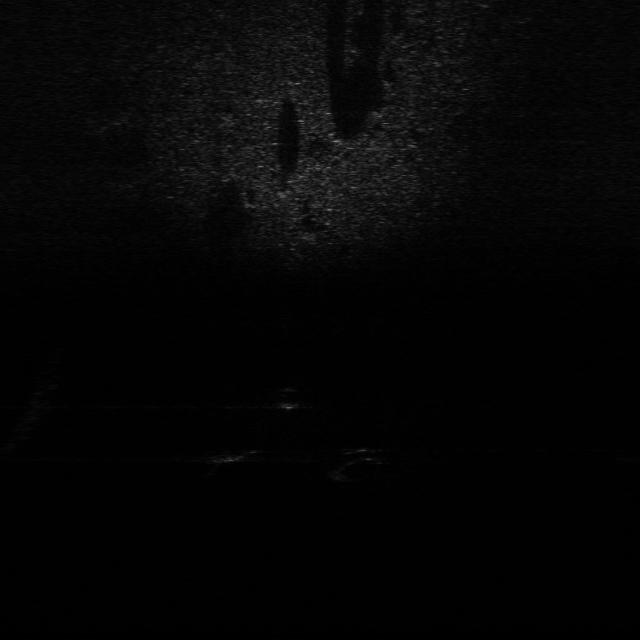ball: (270, 382, 310, 412)
square cage: (204, 442, 267, 466)
tyre: (320, 442, 400, 484)
